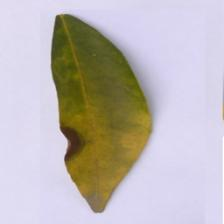black spot: (50, 104, 89, 167)
